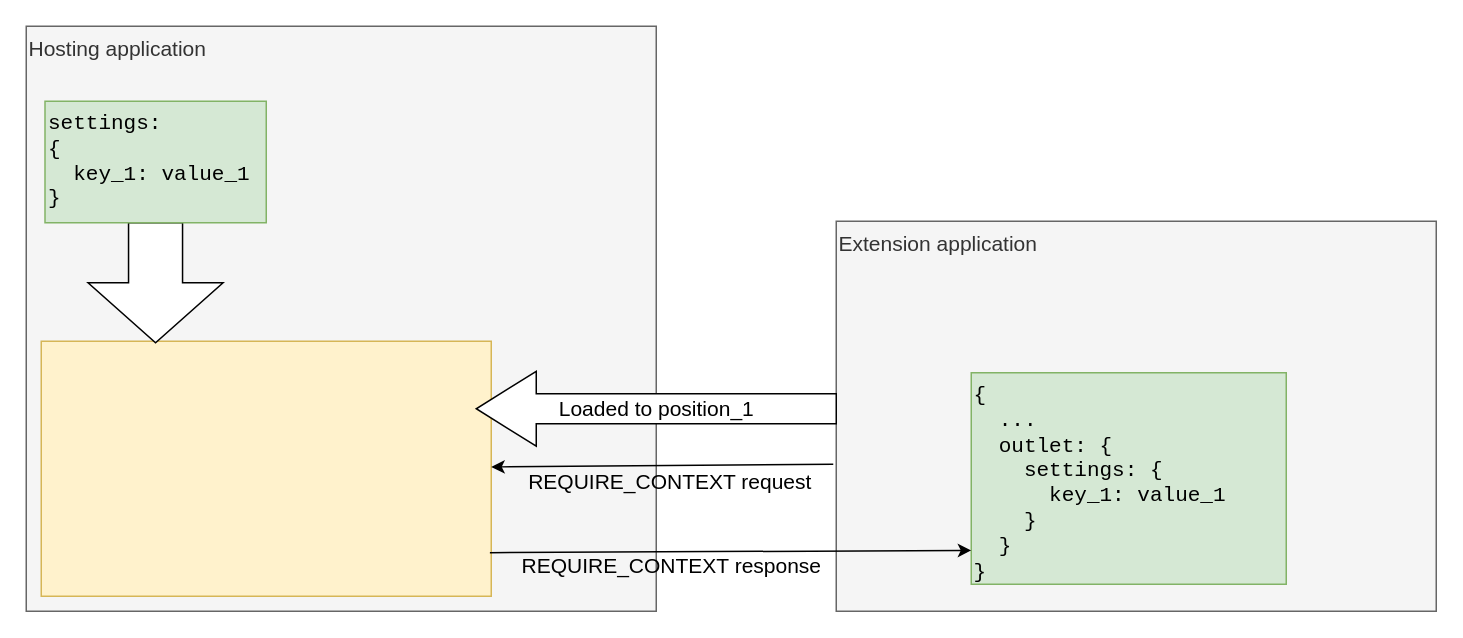
Some shapes in this 1463 by 638 pixel diagram are drawn without their labels. The shapes that lost their labels are listed below. From the top down, each one's centre as x and y in pixels, then its label:
At pixel 155 282: "associate settings".
At pixel 265 468: "Outlet at position_1".
